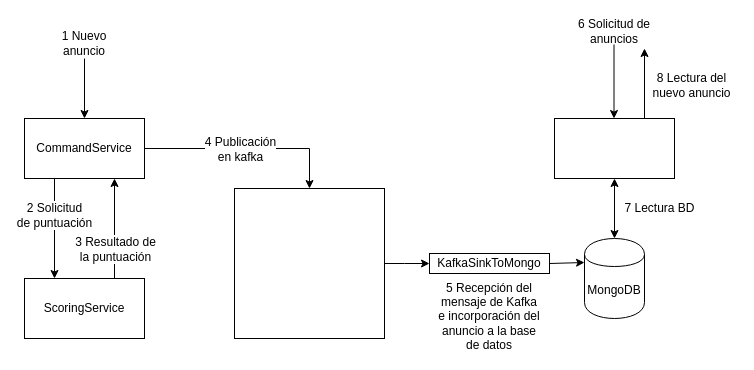
Image size: 754x370. Some labels were removed from this diagram. Here are the shapes that lost their labels. From the top down, the centre of each, then its label:
At point (614, 148): "QueryService".
At point (309, 263): "Apache Kafka".
